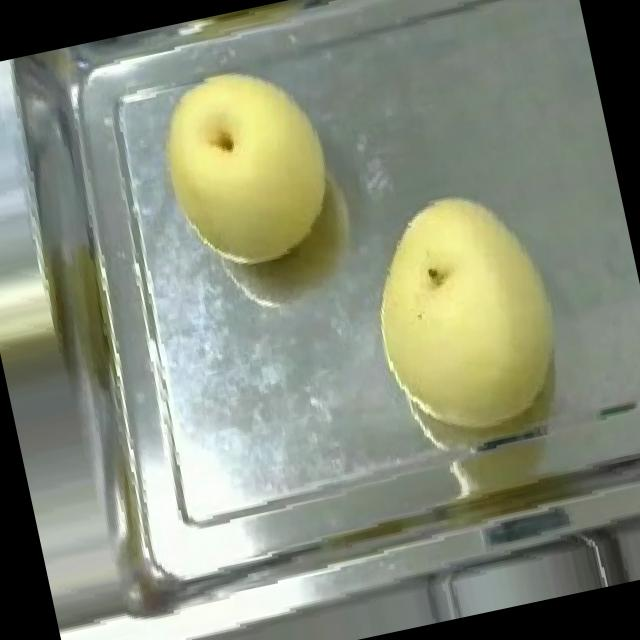Fruit: (346, 168, 586, 451), (134, 42, 356, 286)
